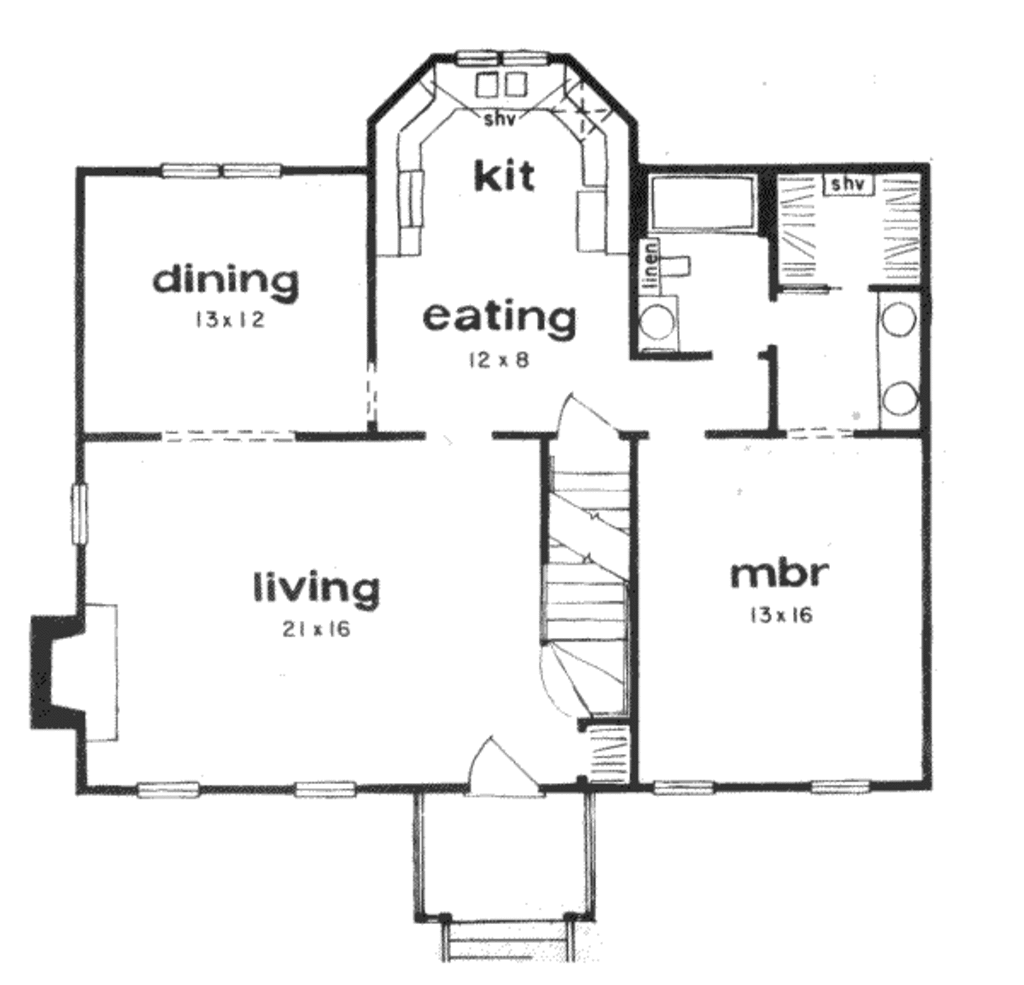door: (467, 732, 542, 799), (550, 383, 635, 438)
small_sink: (870, 295, 924, 425)
stairs: (538, 453, 650, 720)
tub: (650, 174, 757, 235)
twin_sink: (464, 65, 535, 111)
window: (159, 156, 288, 185), (651, 765, 721, 807), (63, 485, 91, 549), (802, 776, 867, 802), (288, 777, 363, 799), (132, 776, 203, 794)
